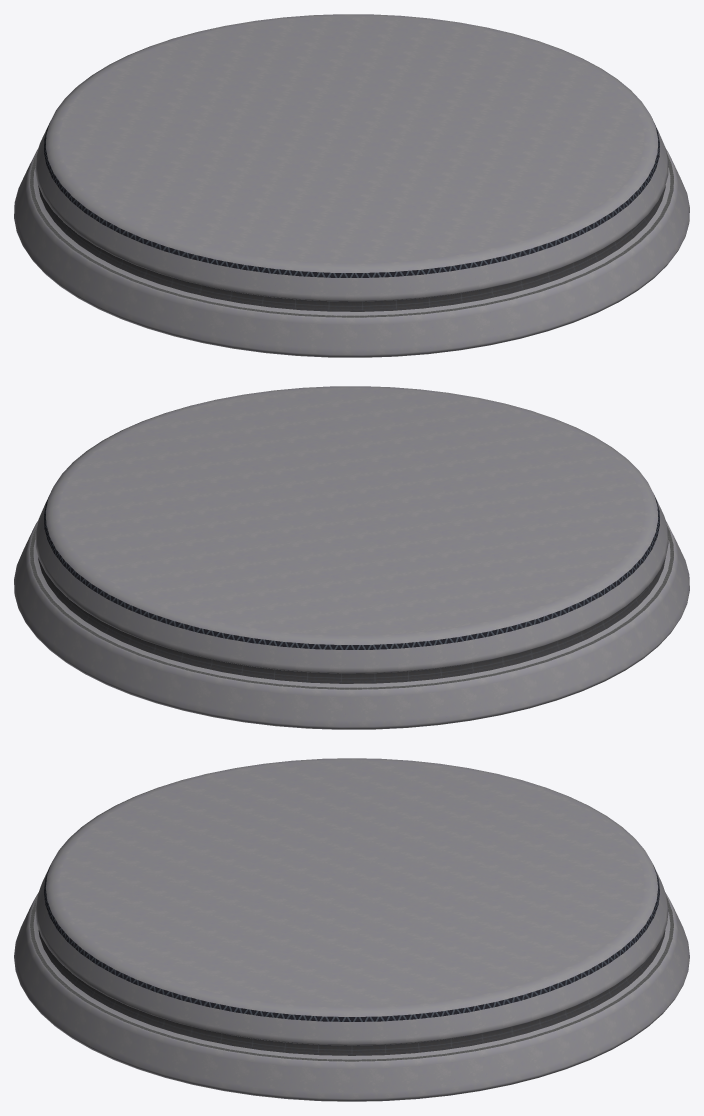
Rendered from SM_Floor04.fbx.
The picture shows the model from 3 angles, top to bottom: view 1: azimuth 30°, elevation 25°; view 2: azimuth 150°, elevation 25°; view 3: azimuth 270°, elevation 25°; orthographic projection.
Visible parts, largest first — view 1: SM_Floor04_LOD0; view 2: SM_Floor04_LOD0; view 3: SM_Floor04_LOD0.
Part boxes in pixels (left/top/right/bottom): SM_Floor04_LOD0: left=14, top=14, right=689, bottom=357; SM_Floor04_LOD0: left=14, top=386, right=689, bottom=729; SM_Floor04_LOD0: left=14, top=758, right=689, bottom=1101.
Size of the model in its own units: 8000 by 8000 by 1000.
Materials: 3 (3 with a texture image).
